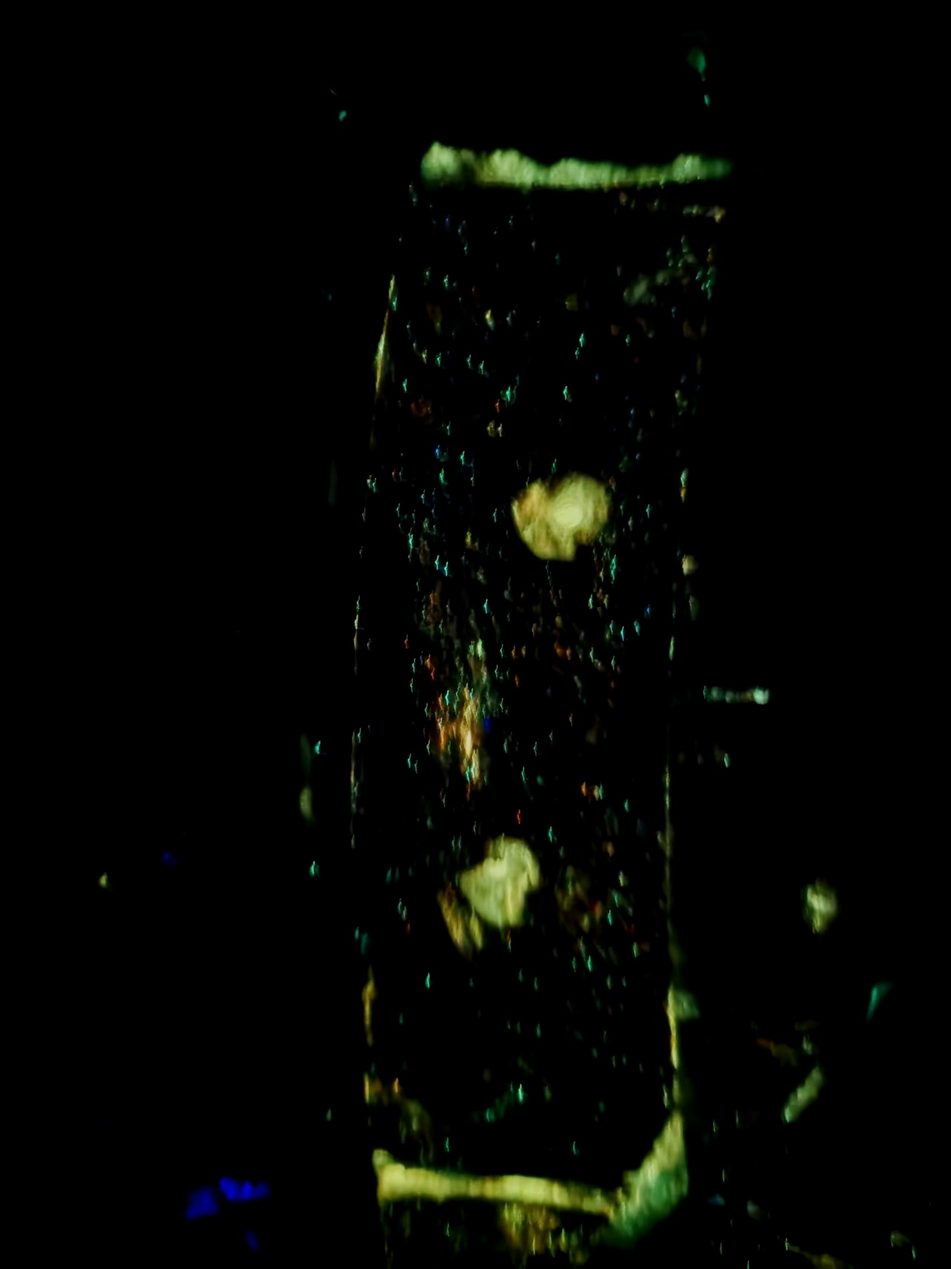Crater: (413, 803, 586, 976), (478, 458, 642, 591)
